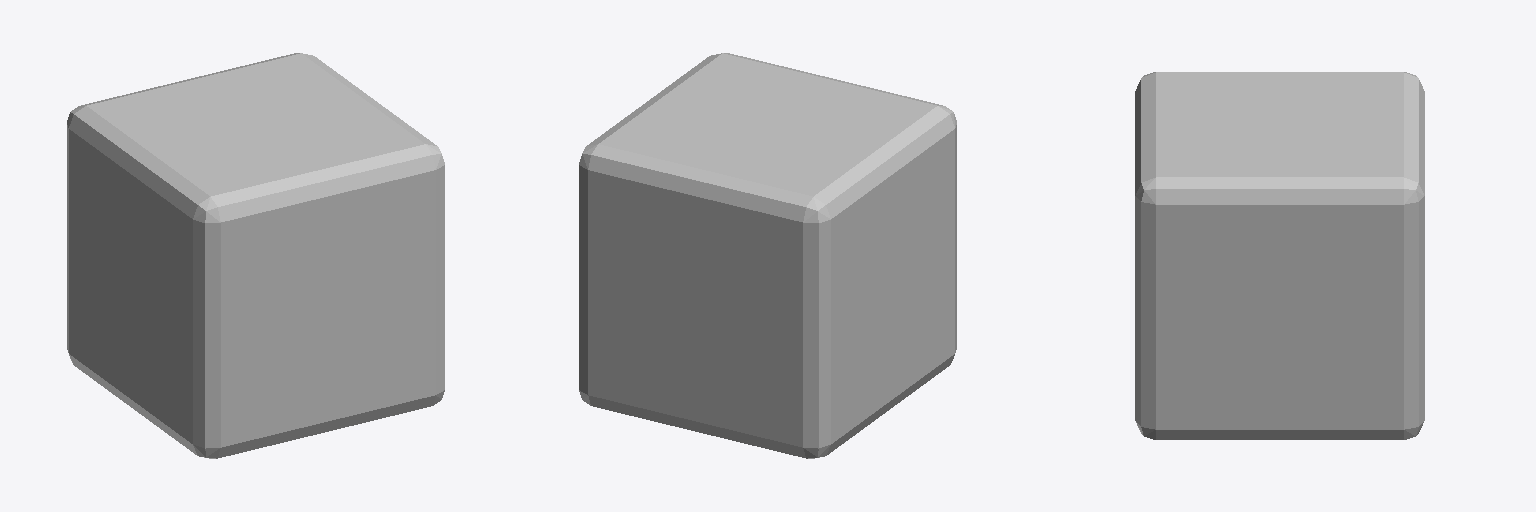
Rendered from roundedcube_flat.obj.
3 renders of one model, left to right at view 1: azimuth 30°, elevation 25°; view 2: azimuth 150°, elevation 25°; view 3: azimuth 270°, elevation 25°, orthographic.
Bounding box in the file's own units: 1 × 1 × 1.